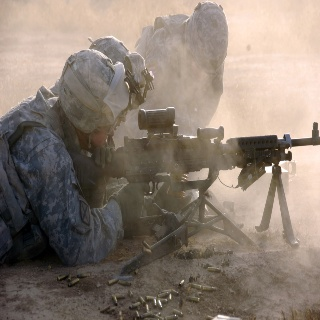rifle: (65, 106, 320, 210)
